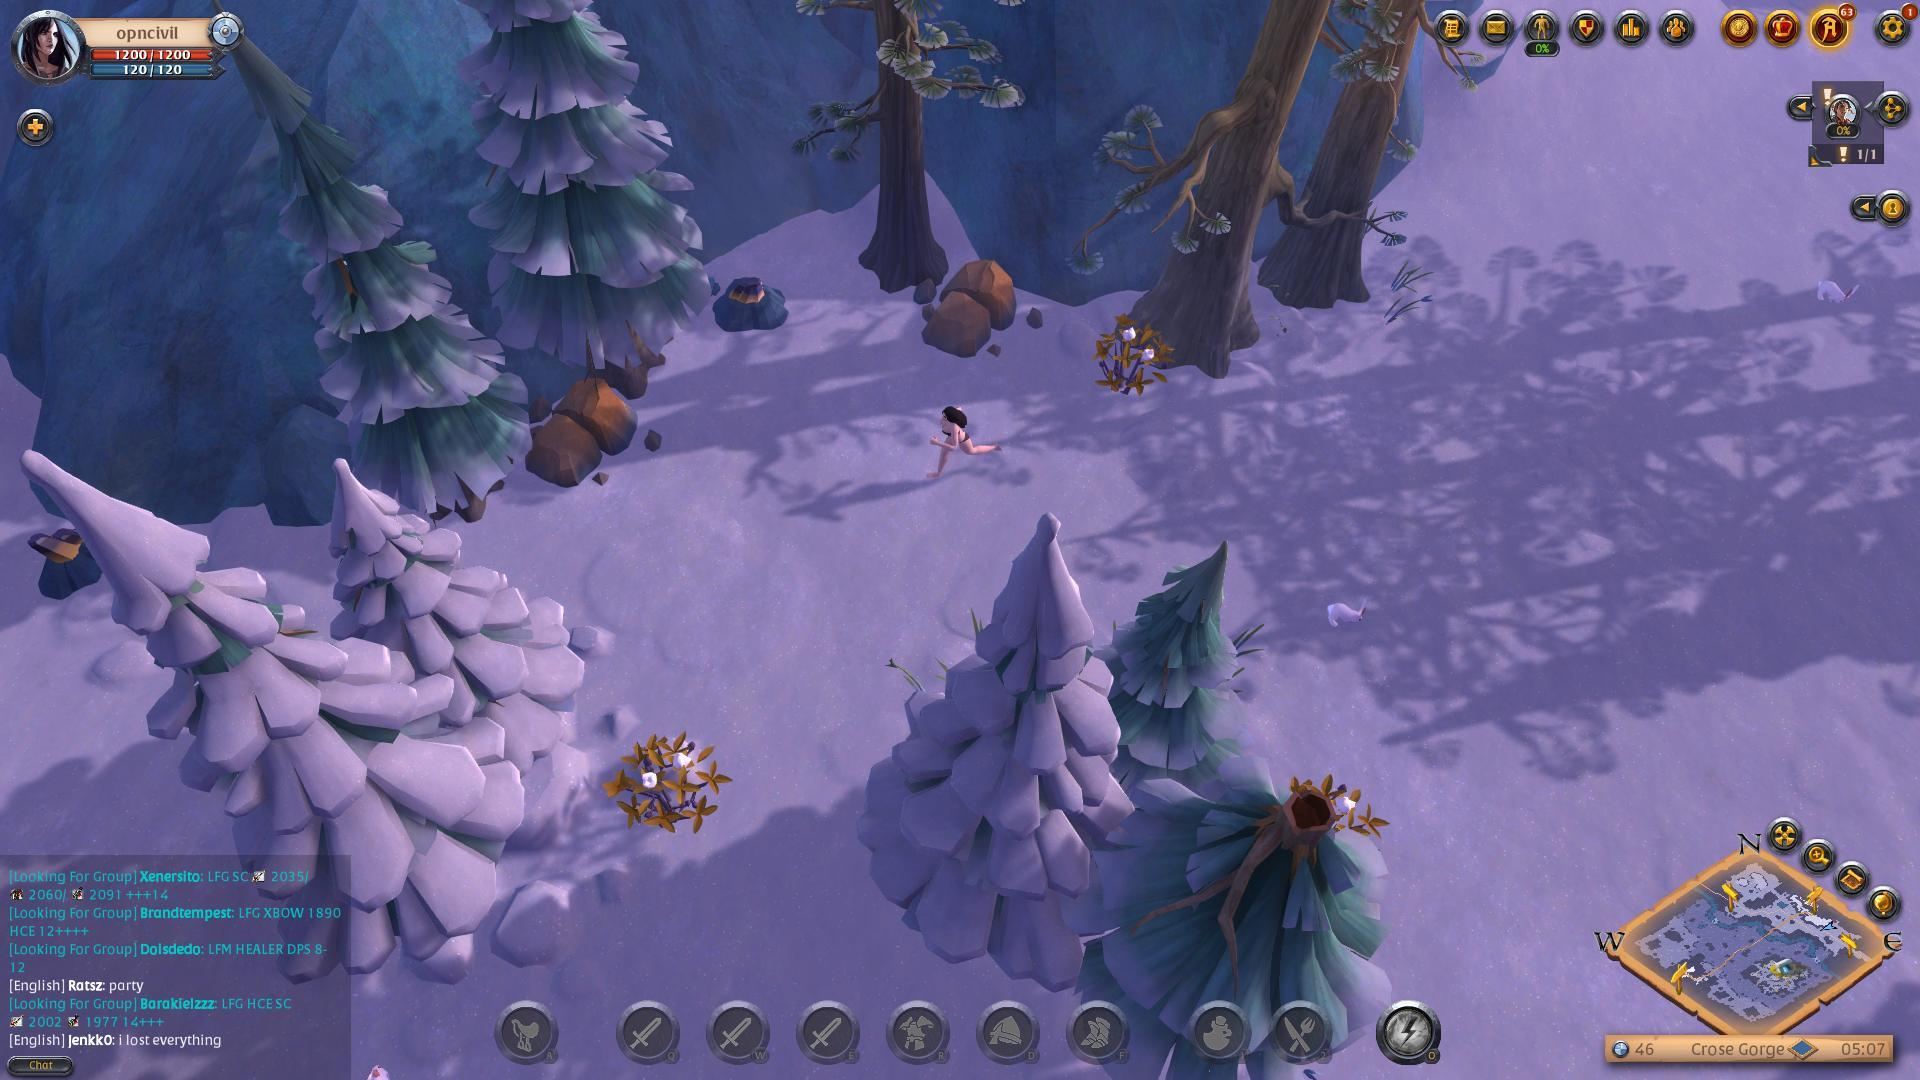copper_ore: (18, 520, 107, 605), (705, 268, 806, 338)
cotton: (603, 738, 745, 839), (1073, 322, 1187, 394)
limestone: (520, 376, 658, 497), (915, 247, 1034, 376)
